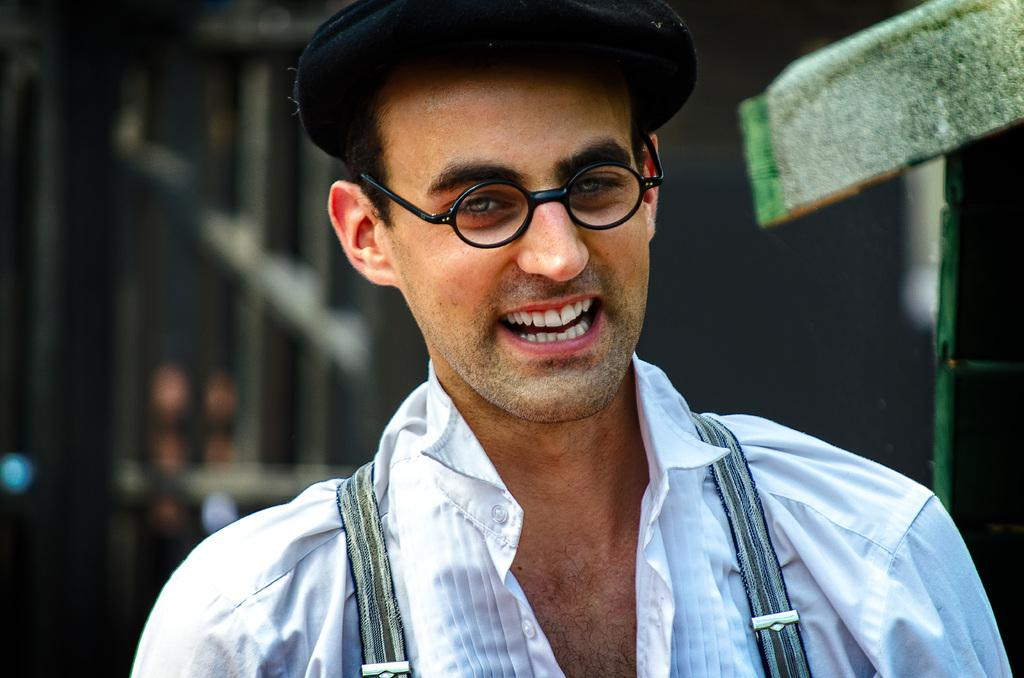Hat: (294, 0, 698, 163)
